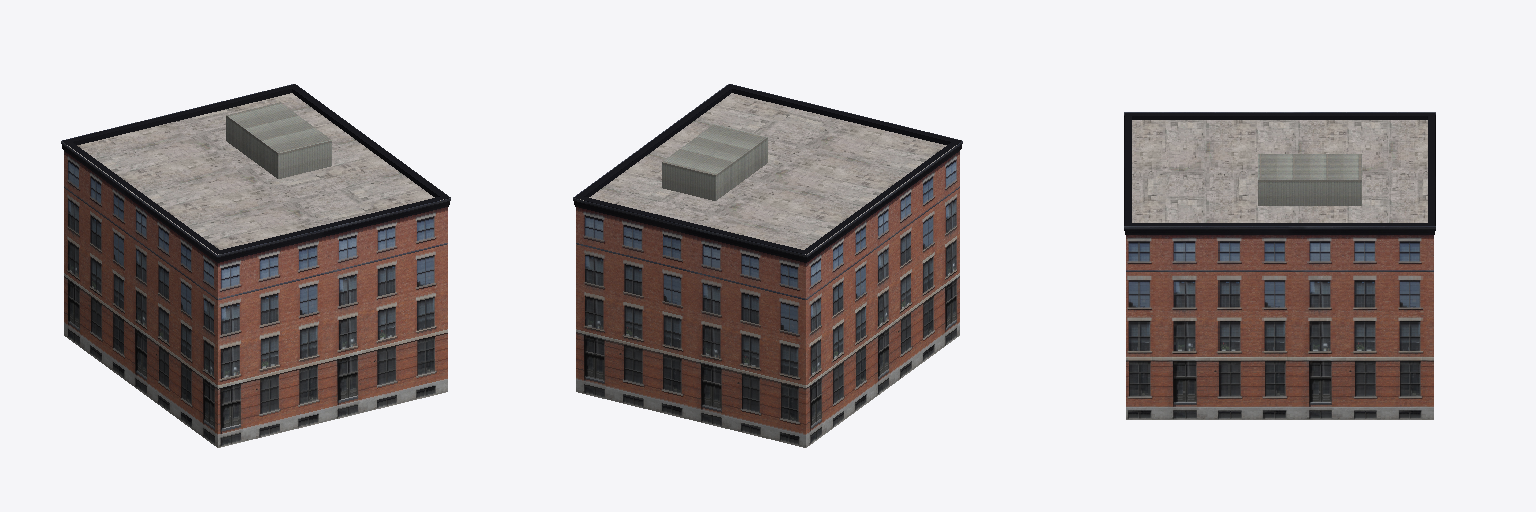
3 views of the same model, side by side, from view 1: azimuth 30°, elevation 25°; view 2: azimuth 150°, elevation 25°; view 3: azimuth 270°, elevation 25° (orthographic).
Parts seen in each view (by area): view 1: building_47; view 2: building_47; view 3: building_47.
Part boxes in pixels (left/top/right/bottom): building_47: left=61, top=84, right=450, bottom=447; building_47: left=573, top=84, right=962, bottom=447; building_47: left=1124, top=112, right=1435, bottom=419.
Bounding box in the file's own units: 59.05 × 51.93 × 68.2.
1 materials, 1 textured.